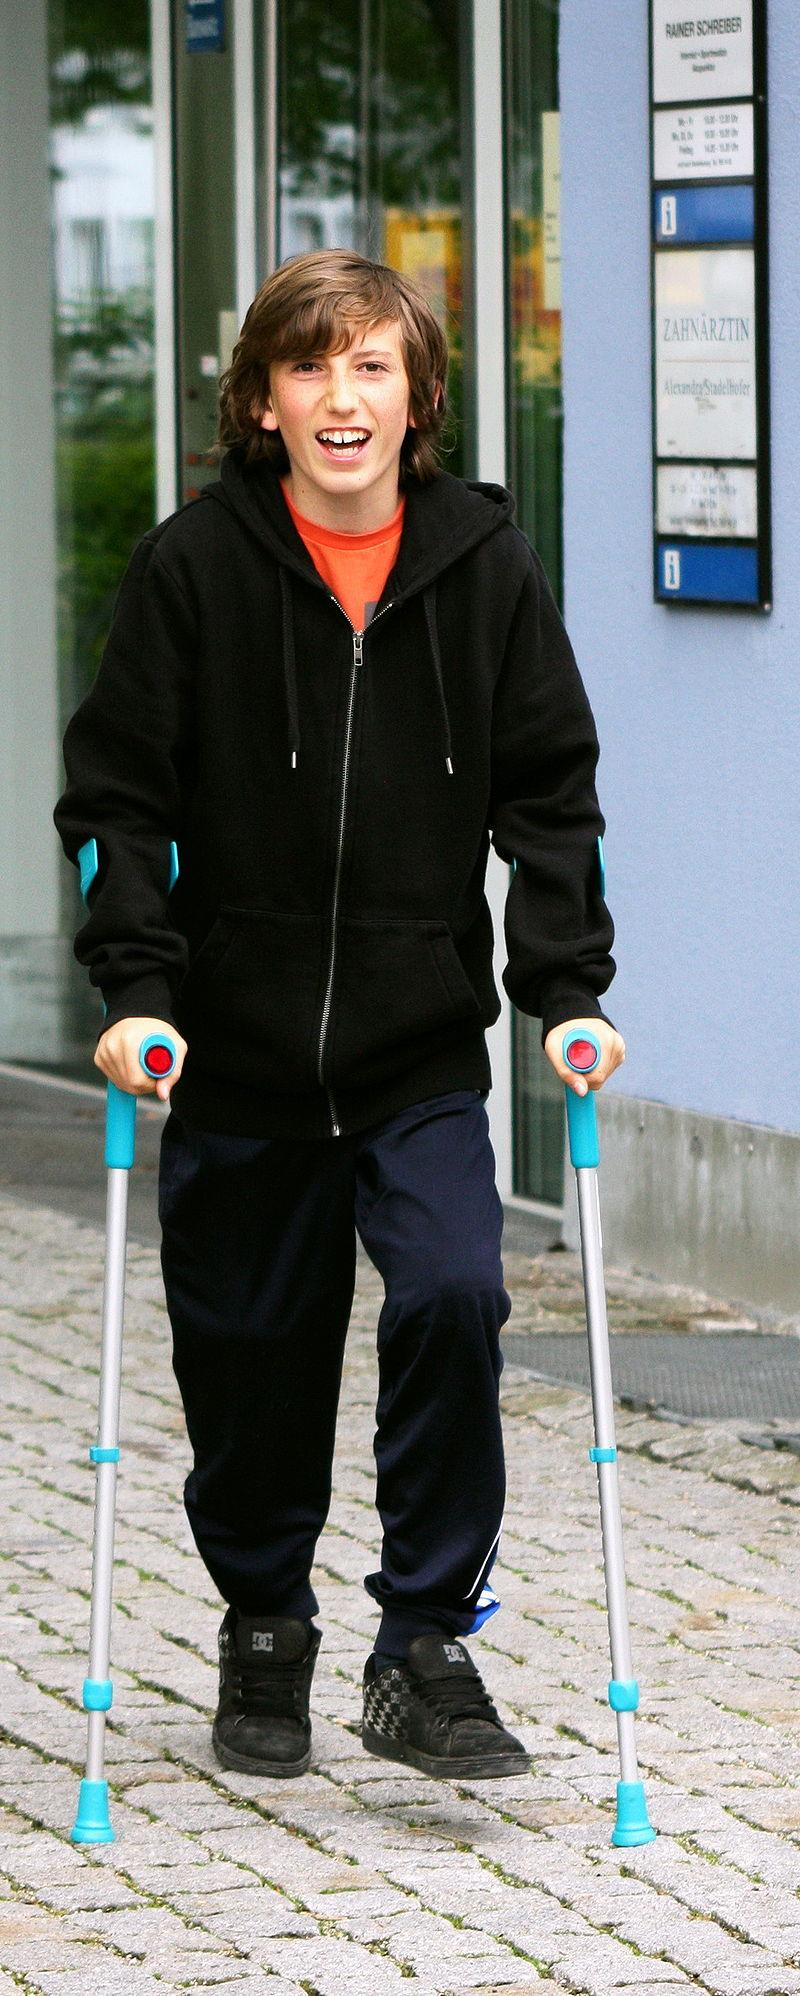crutches: (54, 248, 657, 1848)
